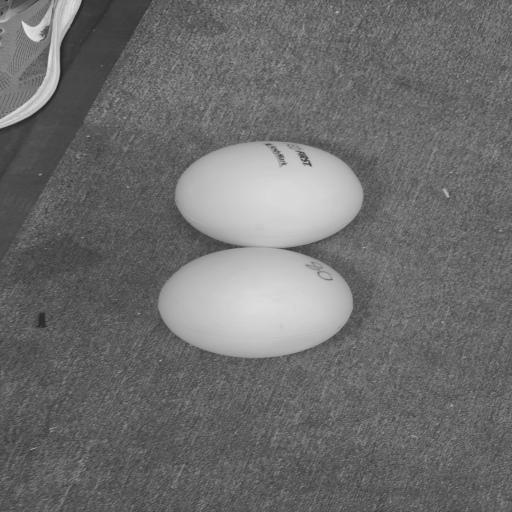fuel: (158, 247, 352, 358), (175, 141, 363, 247)
